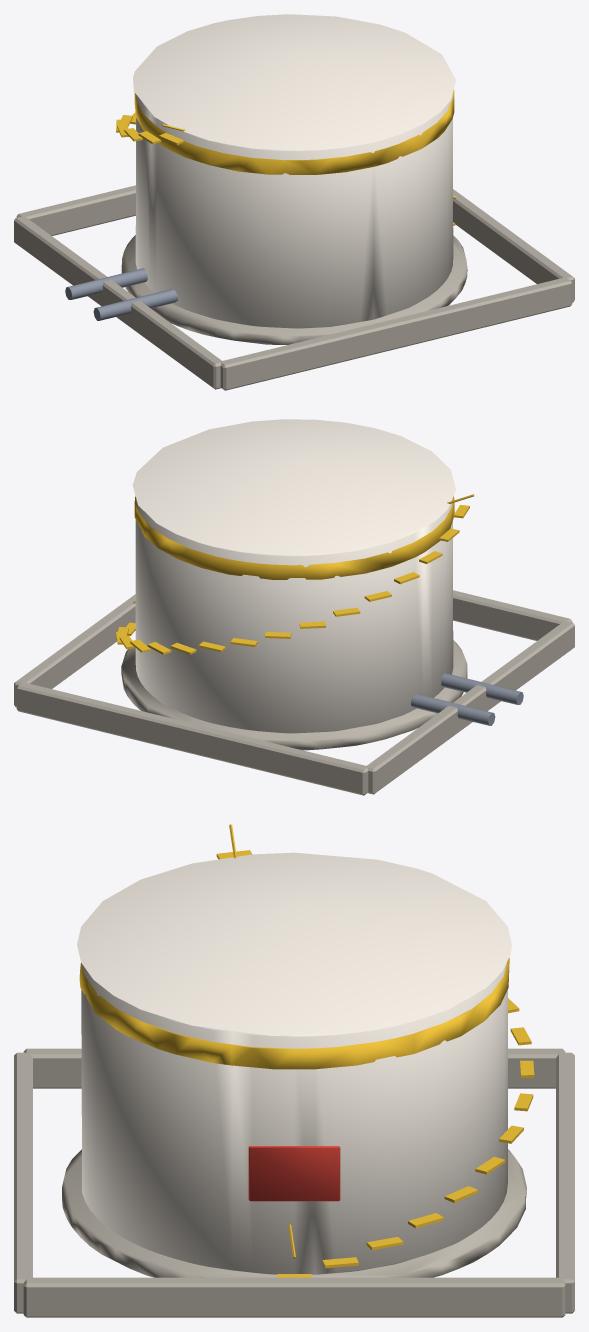
File: fuel_tank.glb
3 views of the same model, one above another, from view 1: azimuth 30°, elevation 25°; view 2: azimuth 150°, elevation 25°; view 3: azimuth 270°, elevation 25° (orthographic). The views are drawn at different scales.
Visible parts, largest first — view 1: fuel_tank; view 2: fuel_tank; view 3: fuel_tank.
Boxes of the visible parts, box(x1,y1,x2,y2) form: fuel_tank: box(14, 14, 574, 390); fuel_tank: box(14, 419, 574, 795); fuel_tank: box(14, 824, 574, 1317).
Size of the model in its own units: 15.95 by 8.5 by 14.7.
1 material, 1 textured.
